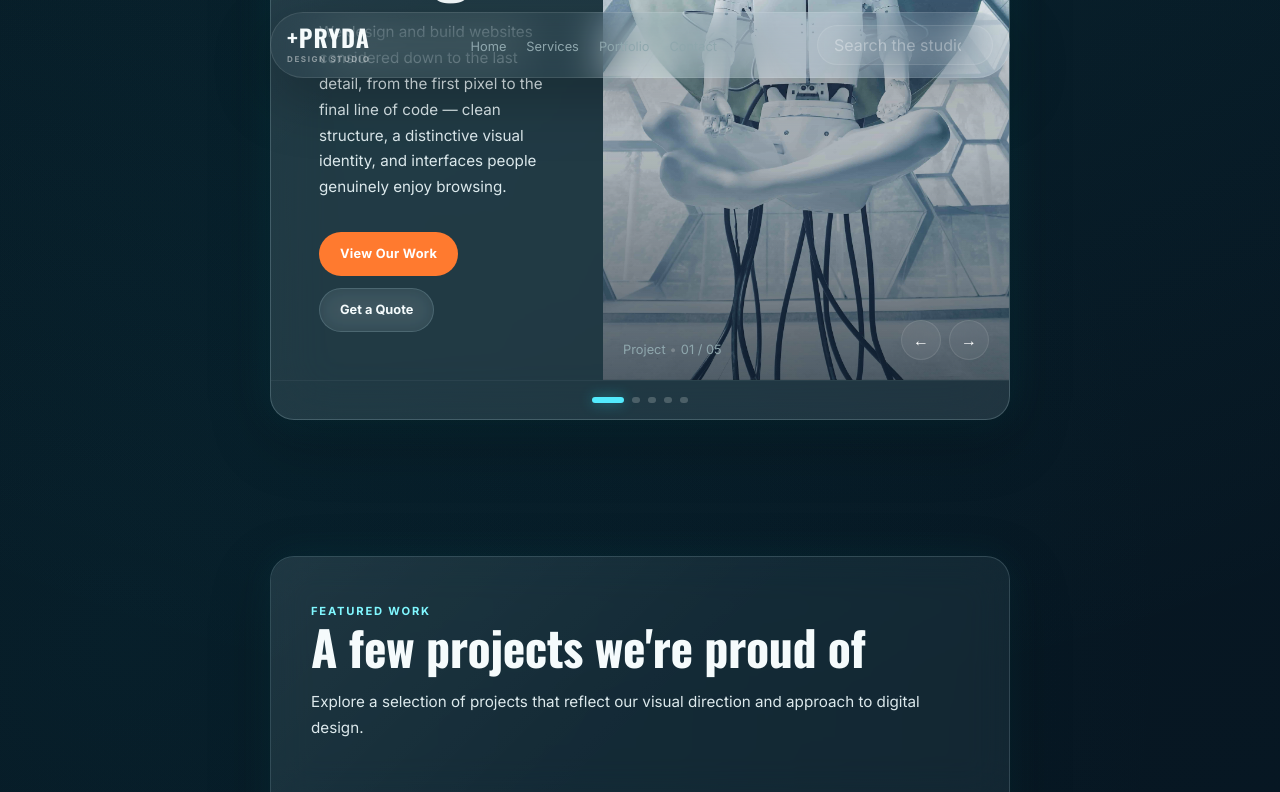
Scenario: hero carousel › jumps to a slide from the pagination dots
The image size is (1280, 792).
(page scrolled)
What coordinates should you click on to do the following:
click the button named "Go to image 3"
I would click on:
 (652, 400)
Its box is [648, 397, 656, 403].
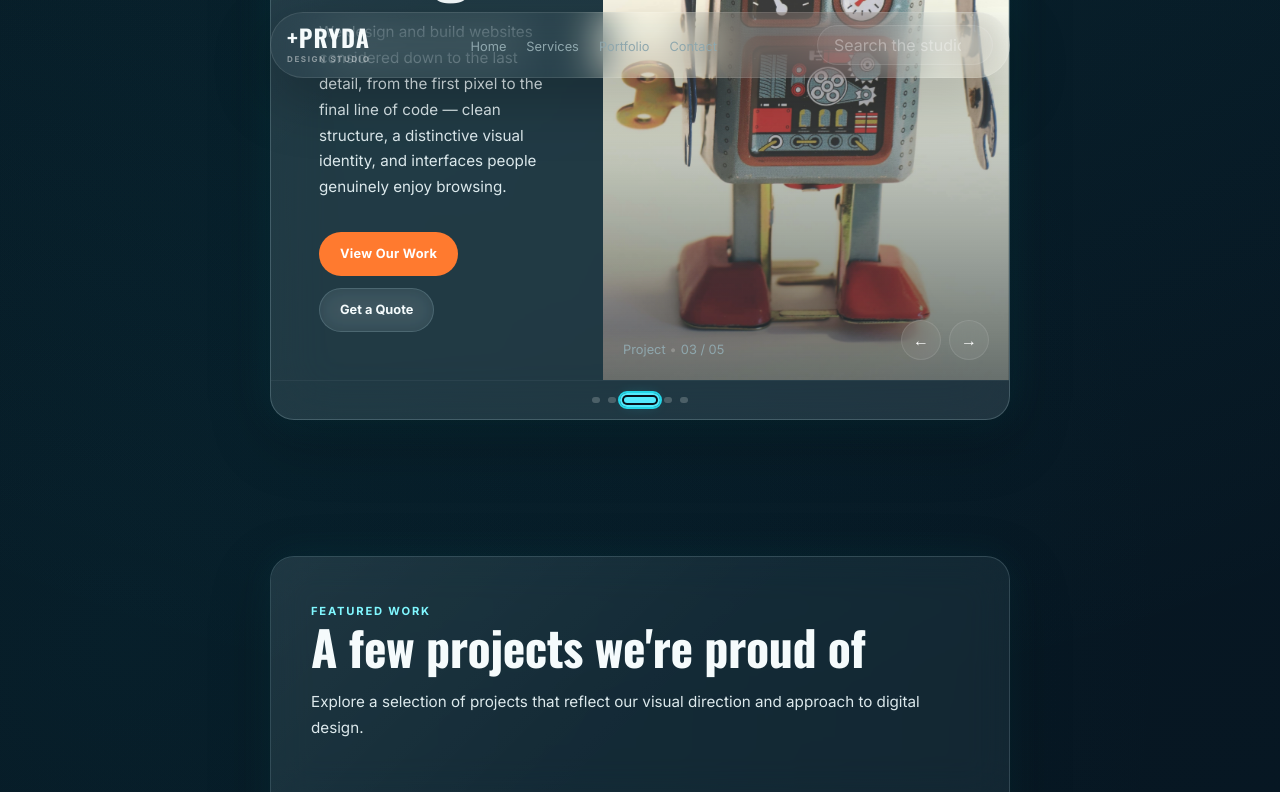
Now the text "Project•03 / 05" is shown, box [623, 342, 724, 357]
